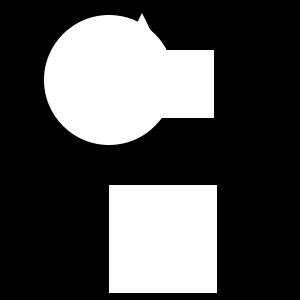circle: (109, 185, 217, 293), (146, 50, 214, 118)
rectangle: (44, 15, 174, 145)
triangle: (102, 13, 182, 93)
